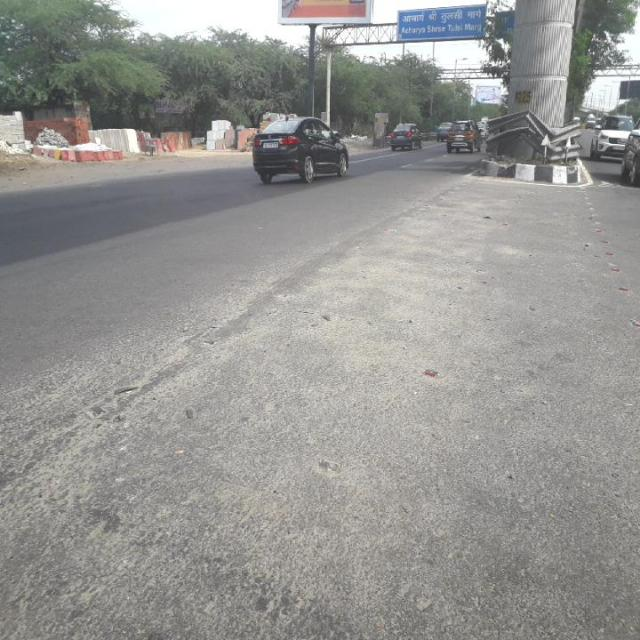D40: (233, 107, 267, 160)
